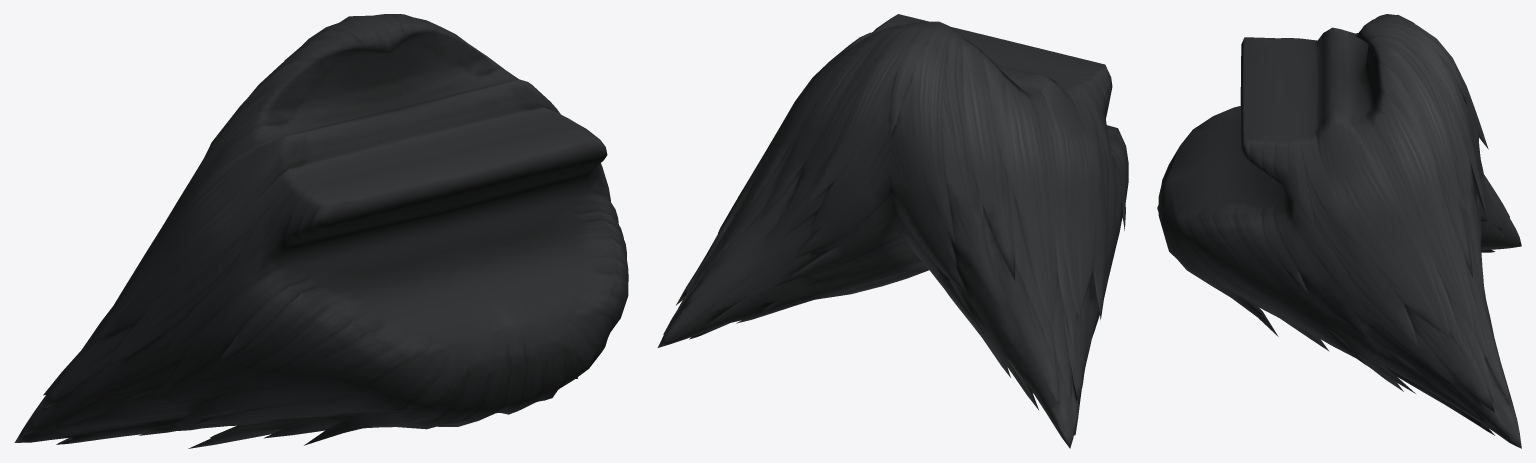
Rendered from h_heihachi.fbx.
3 renders of one model, left to right at view 1: azimuth 30°, elevation 25°; view 2: azimuth 150°, elevation 25°; view 3: azimuth 270°, elevation 25°, orthographic. The views are drawn at different scales.
Visible parts, largest first — view 1: GamemodelShape; view 2: GamemodelShape; view 3: GamemodelShape.
Part boxes in pixels (<box>): GamemodelShape: <box>14,14,628,448</box>; GamemodelShape: <box>657,14,1128,448</box>; GamemodelShape: <box>1157,14,1521,448</box>.
Bounding box in the file's own units: 8.66 × 6.47 × 6.6.
1 material, 1 textured.
